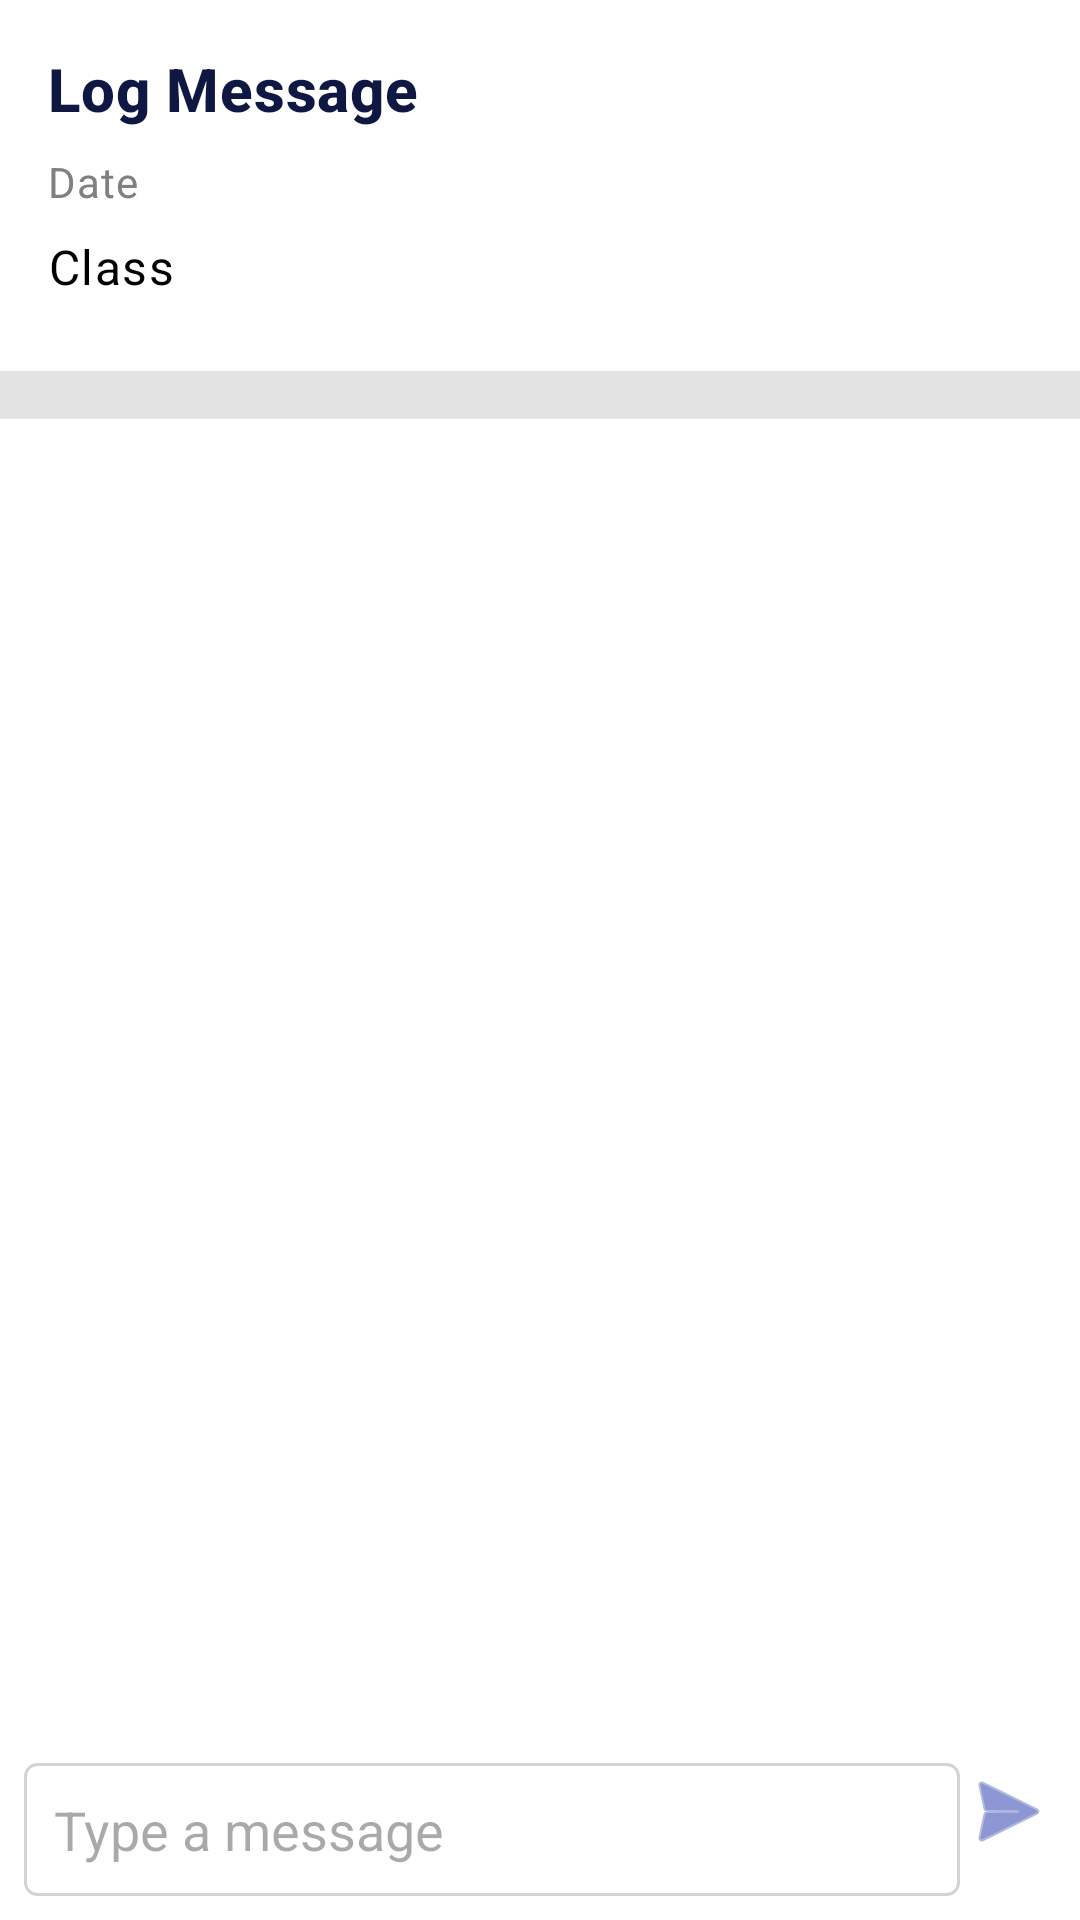

Locate icon controls on the screen. Image size 1080w x 1920h, boxes as (x1, y1, x2, y2).
Send Message: (978, 1781, 1040, 1842)
